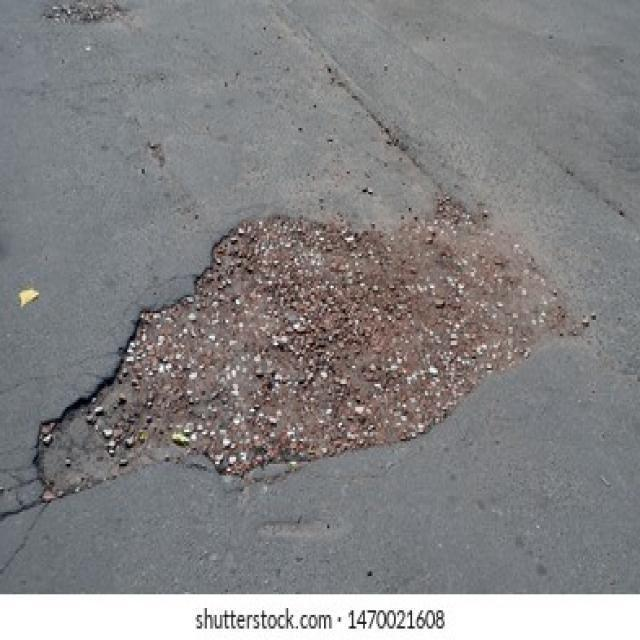pothole: (34, 215, 560, 501), (43, 0, 125, 27)
